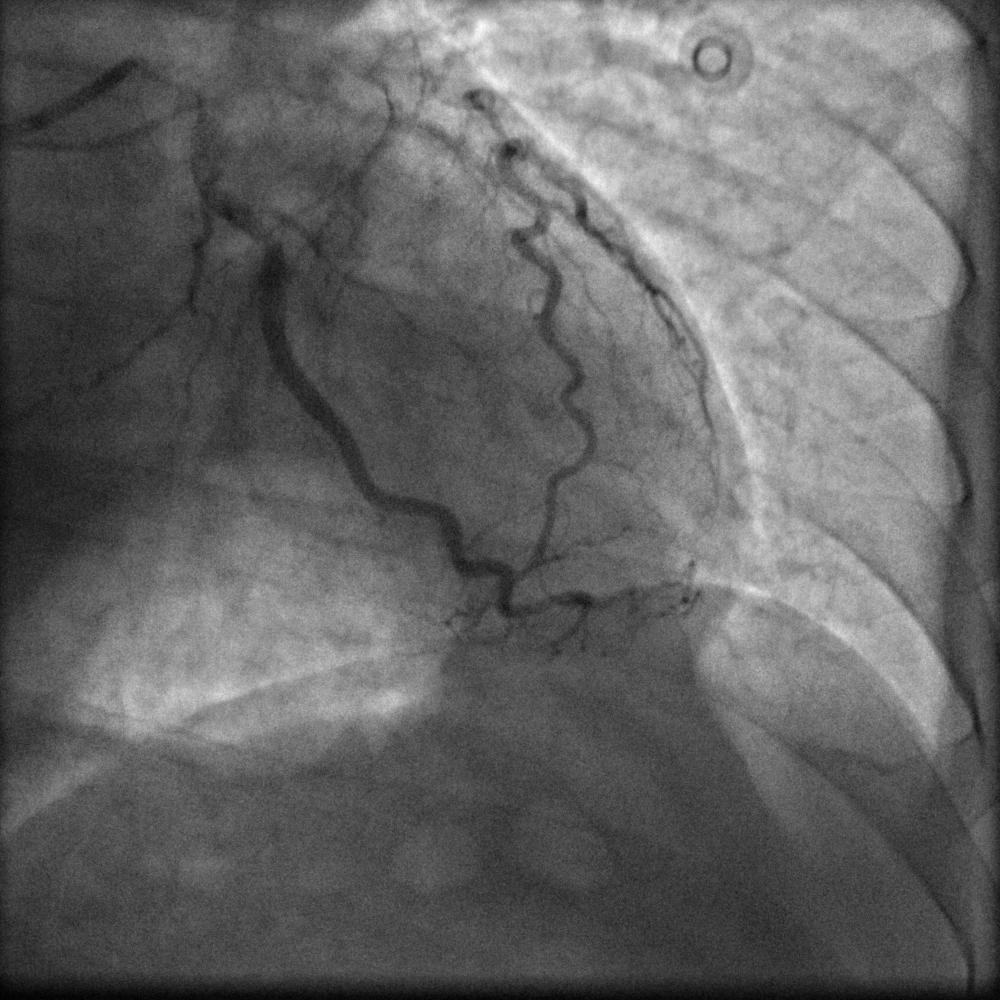Stenosis: (252, 214, 282, 258)
